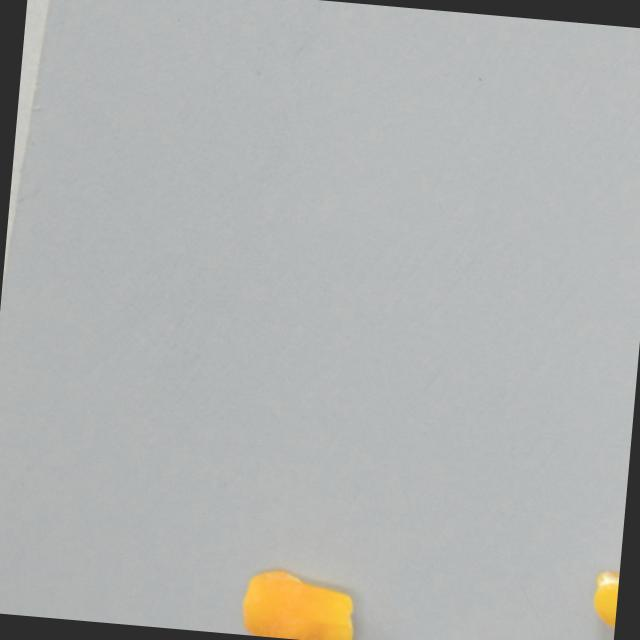estandar: (238, 567, 359, 640)
pelicula: (589, 568, 619, 631)
